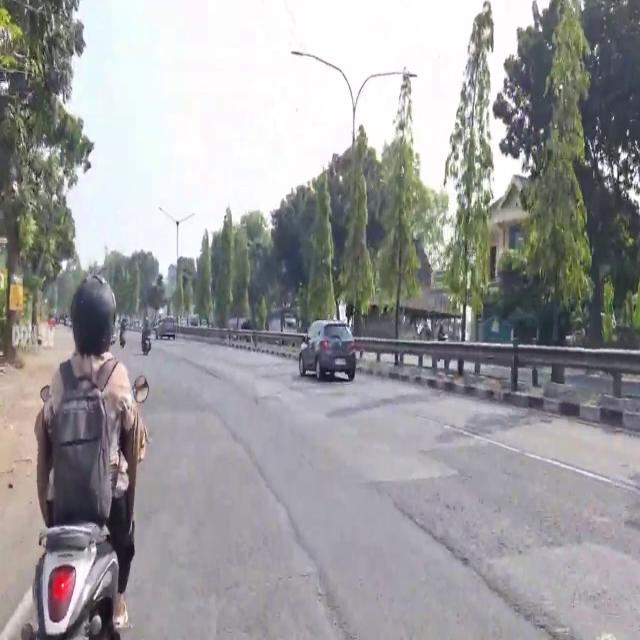WithHelmet: (34, 275, 147, 631)
